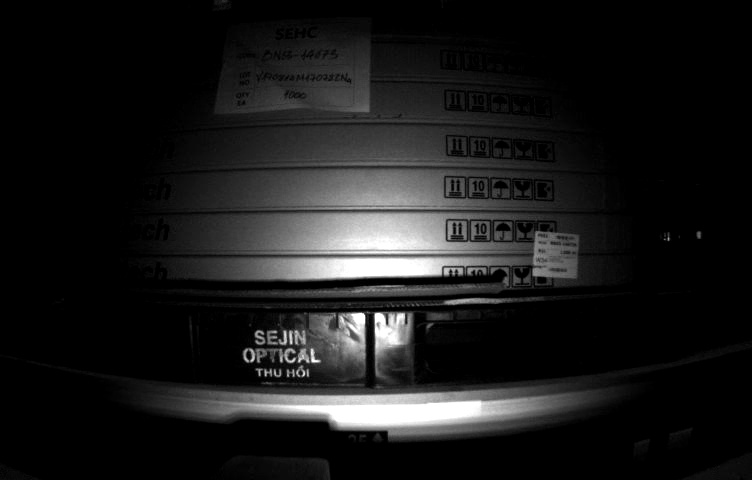True Barcode: (532, 229, 579, 283)
